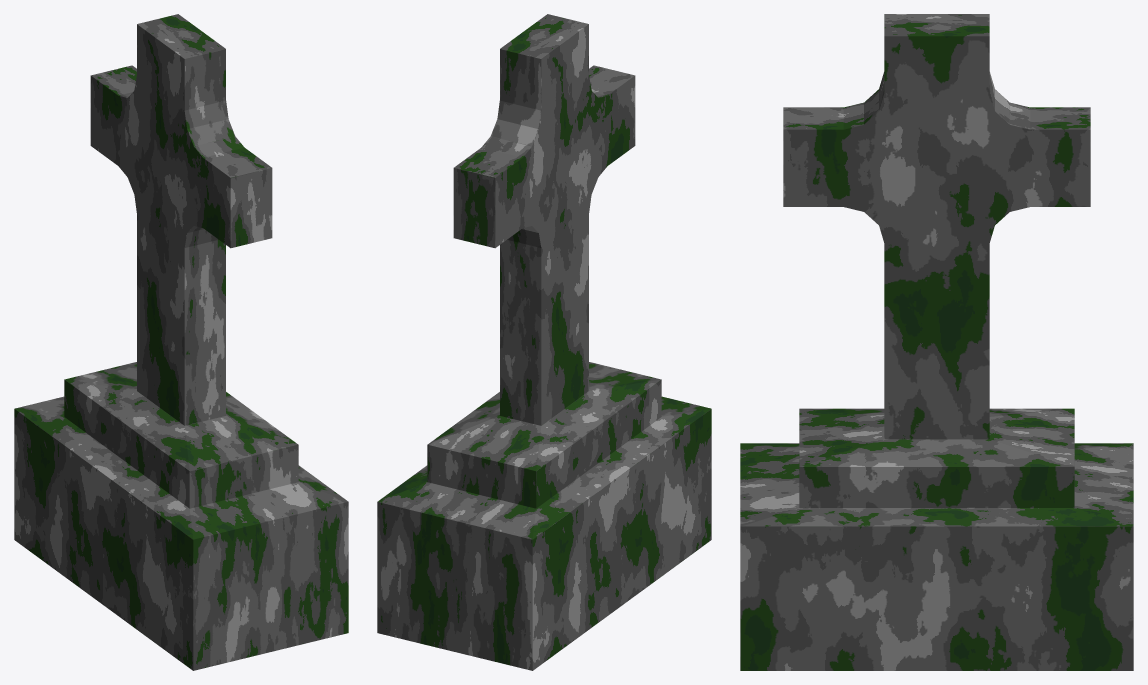
File: StoneCross.fbx
The picture shows the model from 3 angles, left to right: view 1: azimuth 30°, elevation 25°; view 2: azimuth 150°, elevation 25°; view 3: azimuth 270°, elevation 25°; orthographic projection. The views are drawn at different scales.
Parts seen in each view (by area): view 1: Cube; view 2: Cube; view 3: Cube.
Boxes of the visible parts, x1,y1,x2,y2 form: Cube: (14, 14, 348, 670); Cube: (377, 14, 711, 670); Cube: (740, 14, 1133, 670).
Bounding box in the file's own units: 375 × 1269 × 749.
Materials: 1 (1 with a texture image).
